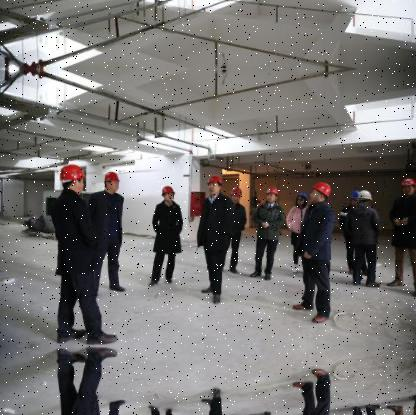helmet: (59, 162, 88, 196), (308, 180, 335, 204), (205, 173, 224, 197), (102, 167, 120, 192), (400, 175, 414, 199), (292, 190, 309, 209), (358, 187, 373, 207), (263, 184, 279, 202), (158, 185, 174, 202), (346, 187, 360, 206), (229, 186, 242, 203)
